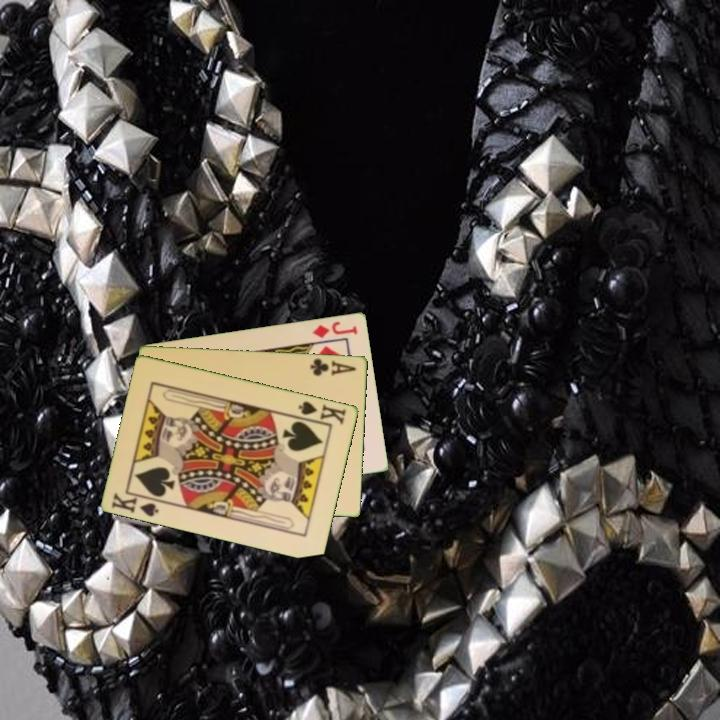Ac: (308, 354, 359, 379)
Jd: (309, 318, 361, 340)
Ks: (108, 489, 166, 519), (293, 397, 349, 427)
